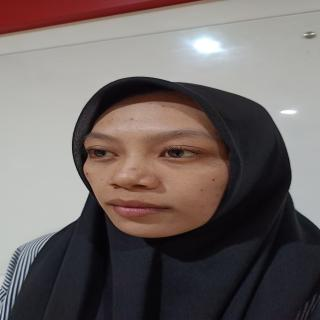Netral: (78, 83, 248, 242)
